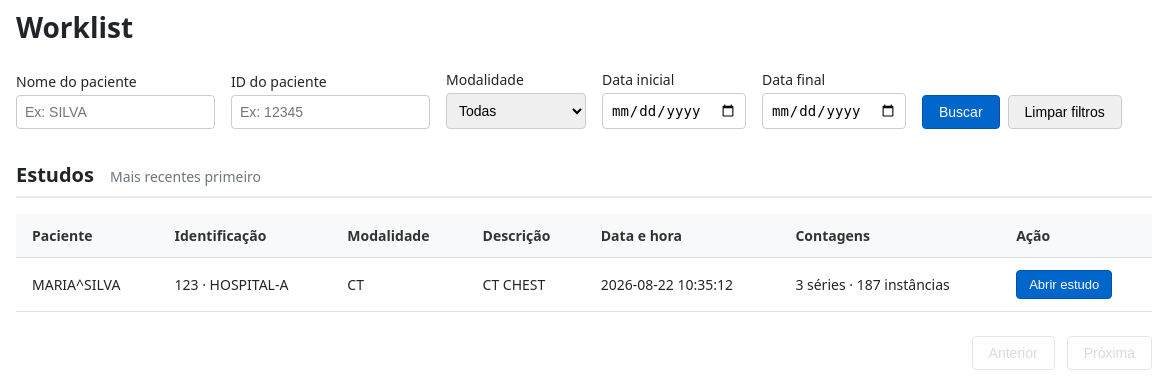
Test case: WorklistPage › limpa os filtros e recarrega estudos recentes ao clicar em Limpar filtros
Type "MARIA" into the field named "patientName" at (116, 112), box [16, 95, 215, 129]
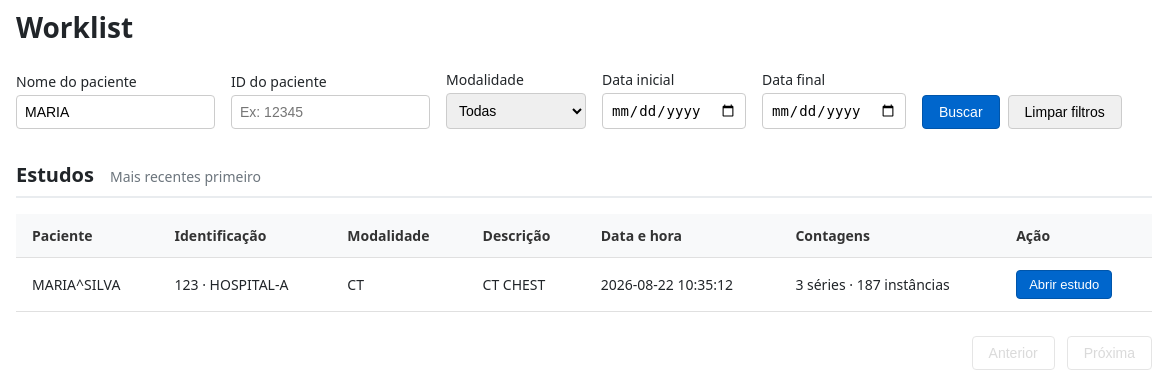
Select "CT" in the dropdown named "modality" at (516, 111), box [446, 93, 586, 129]
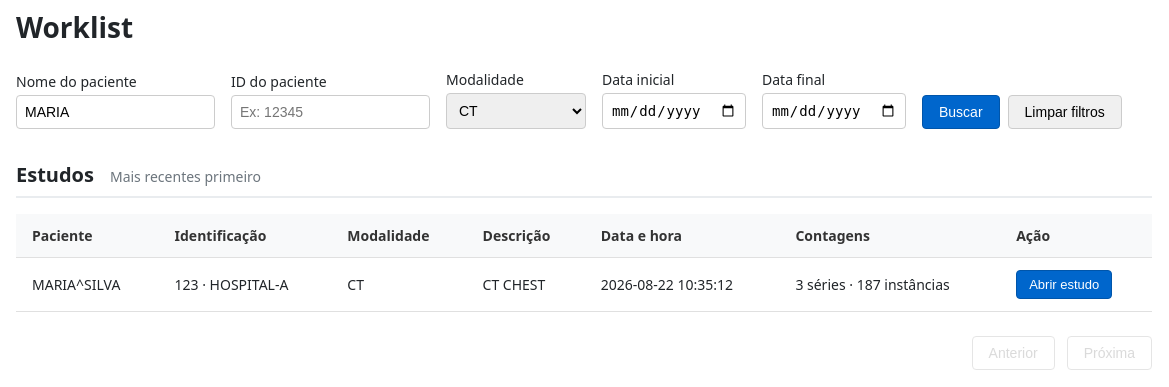
Submit the form, box [16, 70, 1152, 129]
Click the button "Limpar filtros" at (1065, 112), box [1008, 95, 1122, 129]
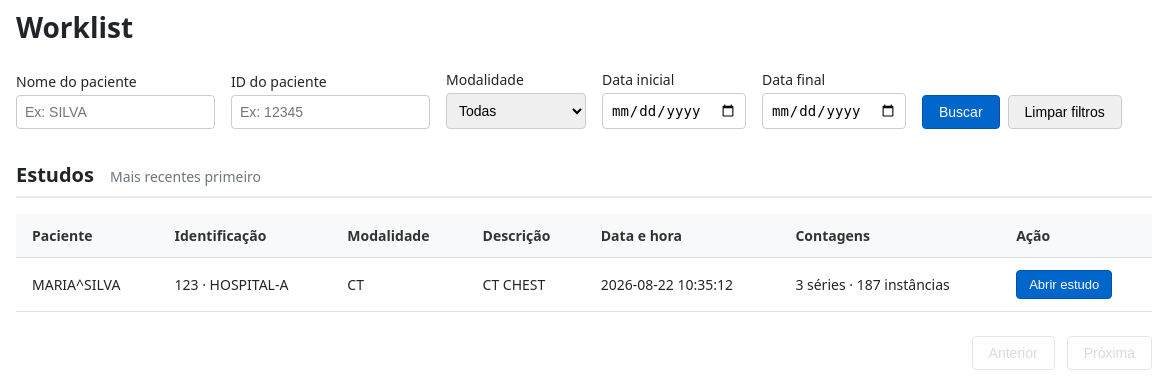
Expected: the field named "patientName" is empty, [16, 95, 215, 129]
